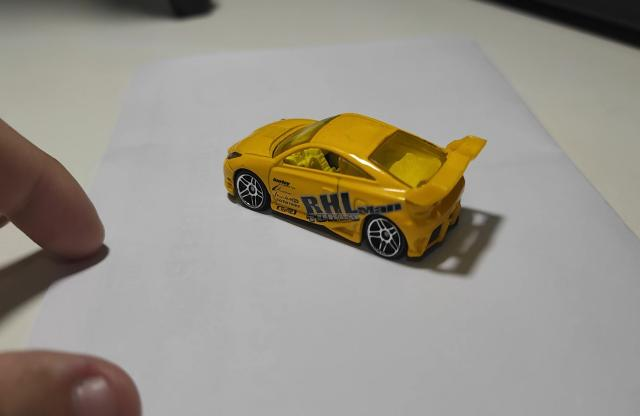07_RHLTURBO: (223, 113, 486, 261)
